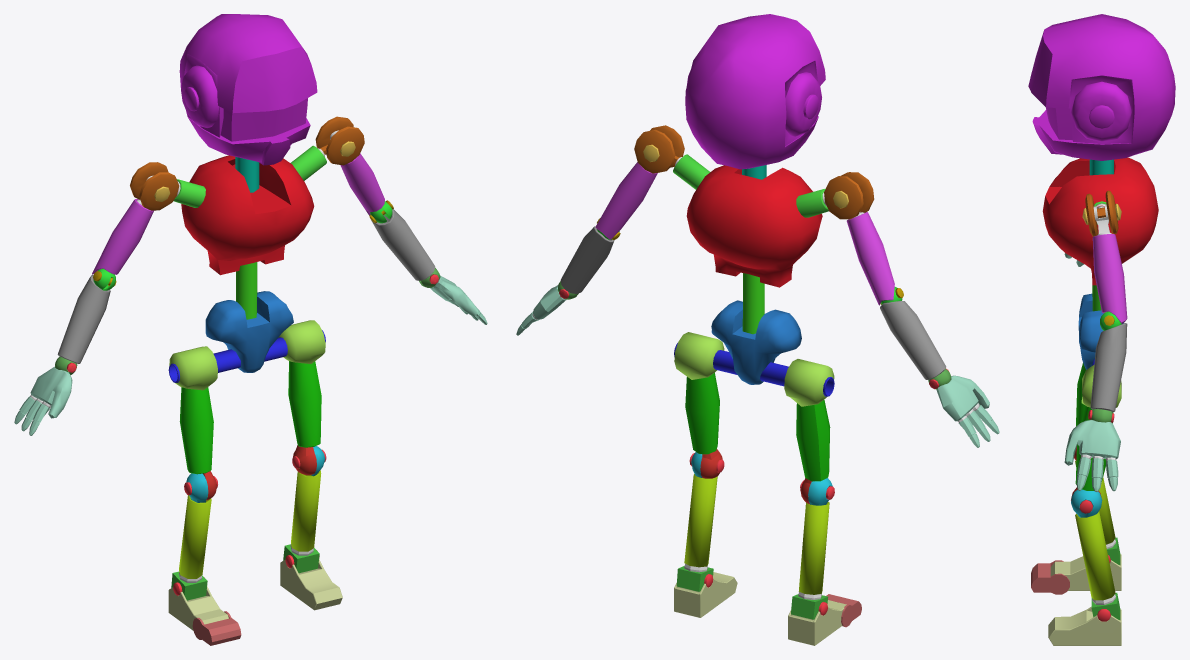
The model's file is esqueleto.fbx.
The picture shows the model from 3 angles, left to right: view 1: azimuth 30°, elevation 25°; view 2: azimuth 150°, elevation 25°; view 3: azimuth 270°, elevation 25°; orthographic projection. The views are drawn at different scales.
Visible parts, largest first — view 1: ciclo_de_caminar:Cabeza, polySurface12, cadera, ciclo_de_caminar:MusloIzquierda4, ciclo_de_caminar:MusloIzquierda2, polySurface2, BicepsIzquierda4, polySurface1, ciclo_de_caminar:PlantaPieIzquierda2, ciclo_de_caminar:EspinillaIzquierda4, ciclo_de_caminar:EspinillaIzquierda2, HombroIzquierda4 (+11 smaller); view 2: ciclo_de_caminar:Cabeza, polySurface12, cadera, polySurface2, ciclo_de_caminar:MusloIzquierda2, ciclo_de_caminar:MusloIzquierda4, BicepsIzquierda4, ciclo_de_caminar:EspinillaIzquierda2, ciclo_de_caminar:EspinillaIzquierda4, ciclo_de_caminar:BicepsIzquierda1, polySurface1, ciclo_de_caminar:RotulaPelvisIzquierda4 (+9 smaller); view 3: ciclo_de_caminar:Cabeza, polySurface12, polySurface1, ciclo_de_caminar:BicepsIzquierda1, ciclo_de_caminar:PlantaPieIzquierda2, ciclo_de_caminar:EspinillaIzquierda2, polySurface9, cadera, ciclo_de_caminar:PlantaPieDerecha, ciclo_de_caminar:PuntaPieIzquierda4, ciclo_de_caminar:HombroIzquierda2, ciclo_de_caminar:EspinillaIzquierda4 (+11 smaller).
Boxes of the visible parts, x1=… form: ciclo_de_caminar:Cabeza: x1=179, y1=14, x2=317, y2=165; polySurface12: x1=181, y1=155, x2=314, y2=275; cadera: x1=205, y1=291, x2=293, y2=372; ciclo_de_caminar:MusloIzquierda4: x1=179, y1=387, x2=213, y2=474; ciclo_de_caminar:MusloIzquierda2: x1=288, y1=361, x2=321, y2=447; polySurface2: x1=57, y1=275, x2=110, y2=363; BicepsIzquierda4: x1=92, y1=199, x2=153, y2=274; polySurface1: x1=371, y1=209, x2=435, y2=280; ciclo_de_caminar:PlantaPieIzquierda2: x1=280, y1=559, x2=342, y2=610; ciclo_de_caminar:EspinillaIzquierda4: x1=179, y1=495, x2=211, y2=578; ciclo_de_caminar:EspinillaIzquierda2: x1=291, y1=468, x2=321, y2=551; HombroIzquierda4: x1=130, y1=162, x2=179, y2=210; ciclo_de_caminar:Cabeza: x1=685, y1=14, x2=825, y2=169; polySurface12: x1=686, y1=165, x2=822, y2=287; cadera: x1=711, y1=300, x2=801, y2=384; polySurface2: x1=880, y1=301, x2=946, y2=379; ciclo_de_caminar:MusloIzquierda2: x1=685, y1=372, x2=719, y2=454; ciclo_de_caminar:MusloIzquierda4: x1=796, y1=400, x2=830, y2=481; BicepsIzquierda4: x1=846, y1=212, x2=894, y2=305; ciclo_de_caminar:EspinillaIzquierda2: x1=684, y1=474, x2=717, y2=567; ciclo_de_caminar:EspinillaIzquierda4: x1=798, y1=502, x2=829, y2=594; ciclo_de_caminar:BicepsIzquierda1: x1=595, y1=162, x2=657, y2=239; polySurface1: x1=560, y1=226, x2=614, y2=293; ciclo_de_caminar:RotulaPelvisIzquierda4: x1=784, y1=359, x2=834, y2=406; ciclo_de_caminar:Cabeza: x1=1028, y1=14, x2=1175, y2=160; polySurface12: x1=1042, y1=157, x2=1158, y2=285; polySurface1: x1=1090, y1=323, x2=1127, y2=412; ciclo_de_caminar:BicepsIzquierda1: x1=1092, y1=234, x2=1127, y2=323; ciclo_de_caminar:PlantaPieIzquierda2: x1=1048, y1=606, x2=1121, y2=645; ciclo_de_caminar:EspinillaIzquierda2: x1=1075, y1=511, x2=1115, y2=600; polySurface9: x1=1064, y1=420, x2=1120, y2=465; cadera: x1=1078, y1=293, x2=1123, y2=369; ciclo_de_caminar:PlantaPieDerecha: x1=1050, y1=554, x2=1121, y2=590; ciclo_de_caminar:PuntaPieIzquierda4: x1=1031, y1=560, x2=1069, y2=594; ciclo_de_caminar:HombroIzquierda2: x1=1085, y1=190, x2=1118, y2=236; ciclo_de_caminar:EspinillaIzquierda4: x1=1075, y1=460, x2=1115, y2=544.
Bounding box in the file's own units: 78.75 × 96.15 × 21.74.
